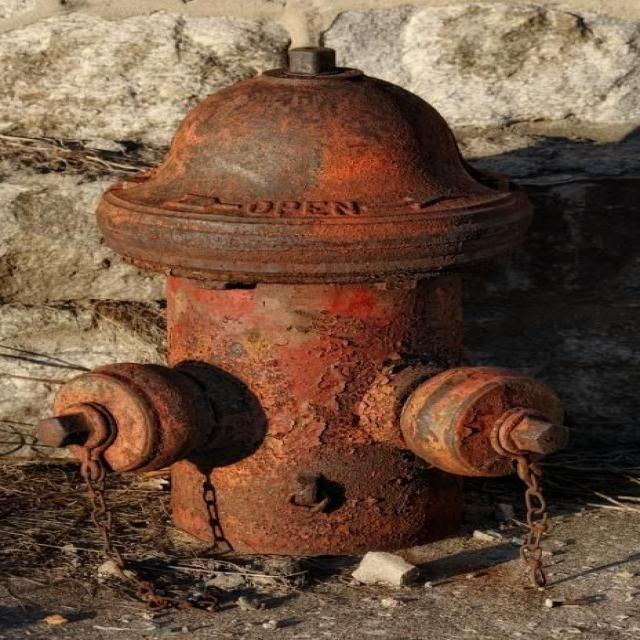Corrosion: (36, 45, 565, 609)
